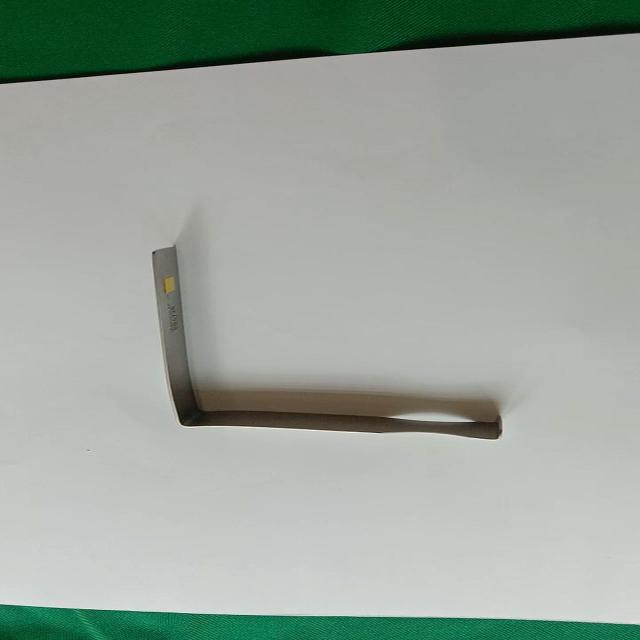AustinRetractor: (142, 238, 519, 447)
